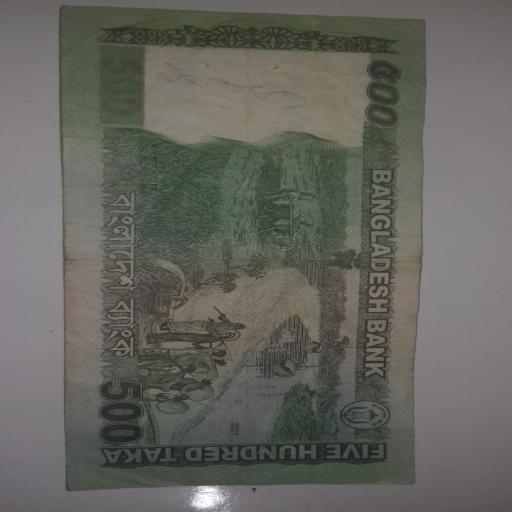500taka: (62, 2, 434, 491)
